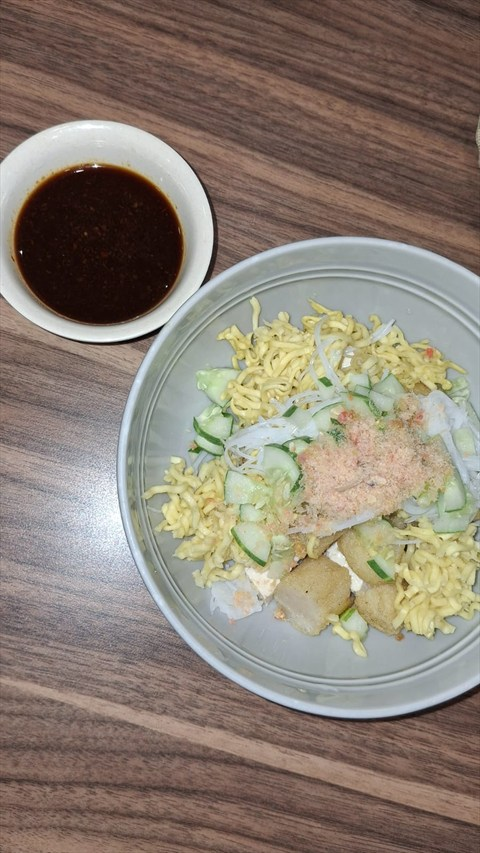Pempek: (19, 112, 443, 670)
